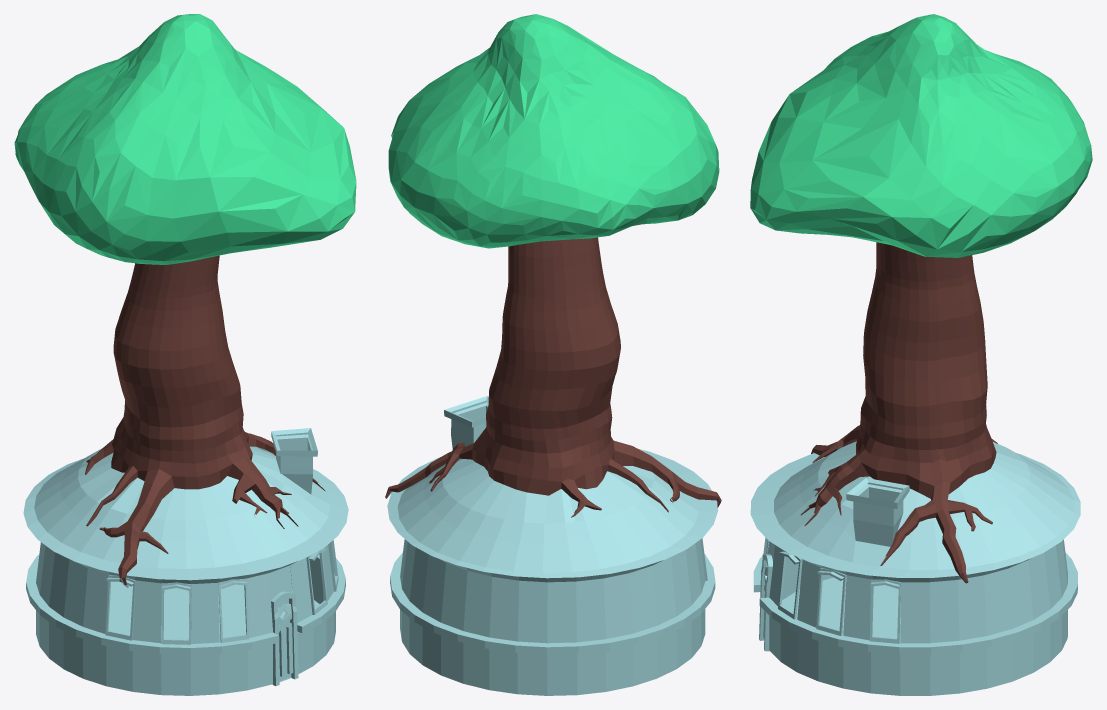
File: TreeHouse04.fbx
3 renders of one model, left to right at view 1: azimuth 30°, elevation 25°; view 2: azimuth 150°, elevation 25°; view 3: azimuth 270°, elevation 25°, orthographic.
Parts seen in each view (by area): view 1: Cylinder.023; view 2: Cylinder.023; view 3: Cylinder.023.
Boxes of the visible parts, x1,y1,x2,y2 form: Cylinder.023: (14,14,356,695); Cylinder.023: (385,14,721,695); Cylinder.023: (750,14,1092,695).
Size of the model in its own units: 828 by 1669 by 837.
